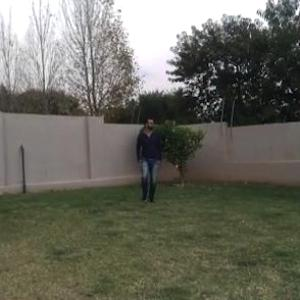follow: (138, 114, 160, 205)
